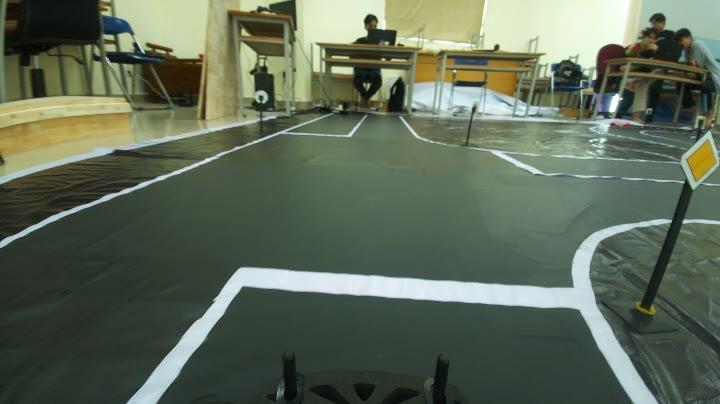priority: (678, 132, 718, 192)
